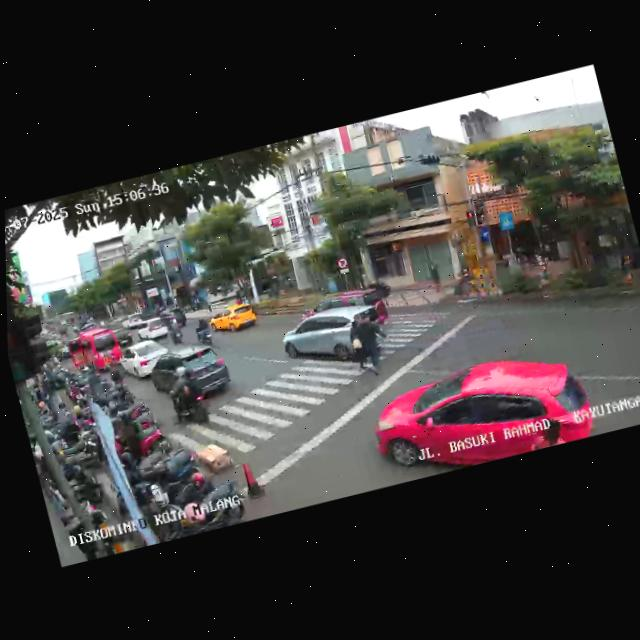car: (363, 339, 599, 486), (276, 295, 398, 386), (148, 339, 235, 414), (295, 281, 393, 343), (64, 324, 124, 378), (116, 336, 173, 383), (208, 301, 259, 339), (132, 311, 169, 343), (111, 325, 134, 349)
motorcycle: (162, 362, 212, 429), (192, 316, 215, 347), (165, 316, 184, 345)
person: (357, 310, 397, 379), (346, 318, 372, 376)
